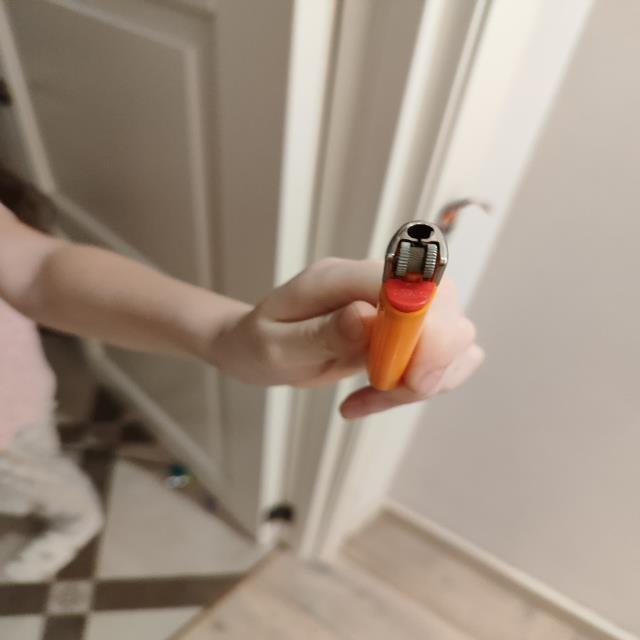lighter: (368, 223, 446, 389)
